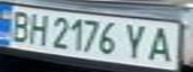1: (66, 16, 84, 52)
2: (48, 13, 72, 51)
6: (96, 19, 124, 56)
7: (81, 17, 103, 53)
A: (145, 24, 178, 64)
B: (6, 8, 33, 43)
H: (24, 11, 51, 46)
Y: (121, 20, 151, 61)
